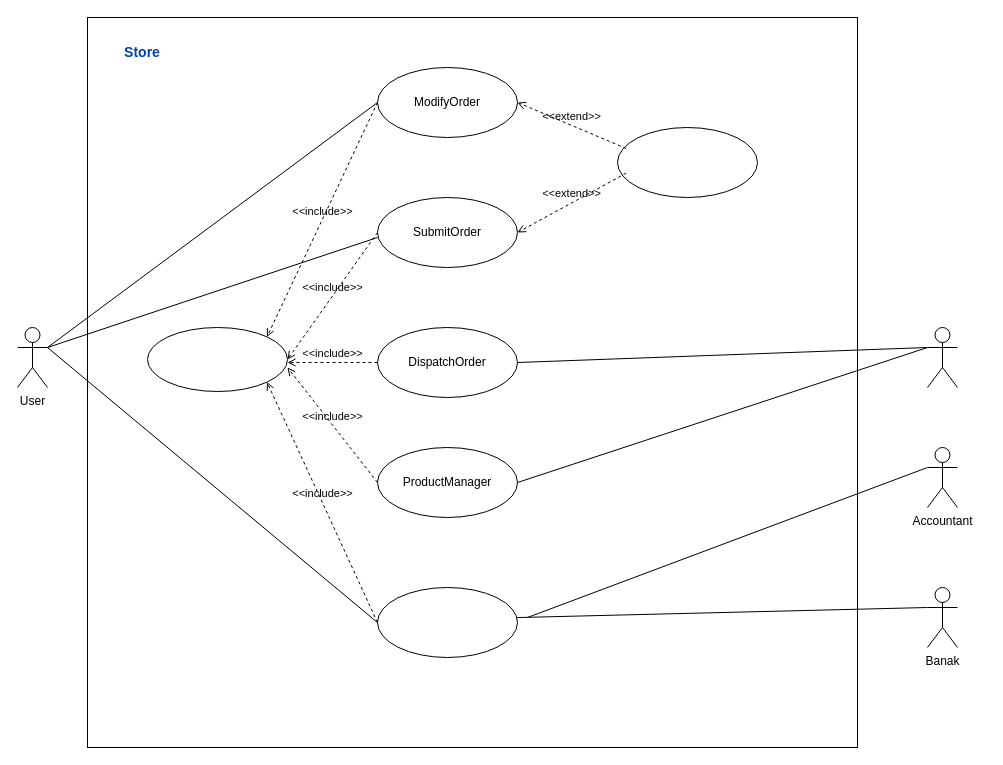
Some shapes in this 1003 by 765 pixel diagram are drawn without their labels. The centre of each missing label's shape, as x and y in pixels:
Login: (217,359)
OnlineHelp: (687,162)
Payment: (447,622)
SystemManager: (942,357)
